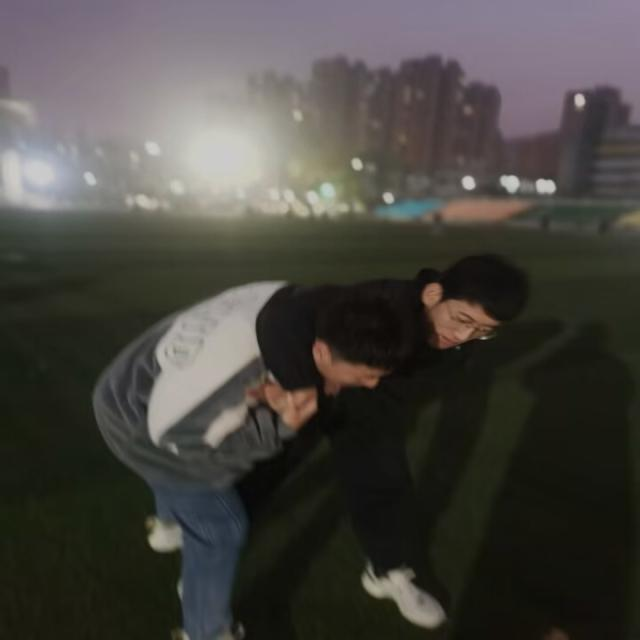fight: (84, 253, 544, 639)
